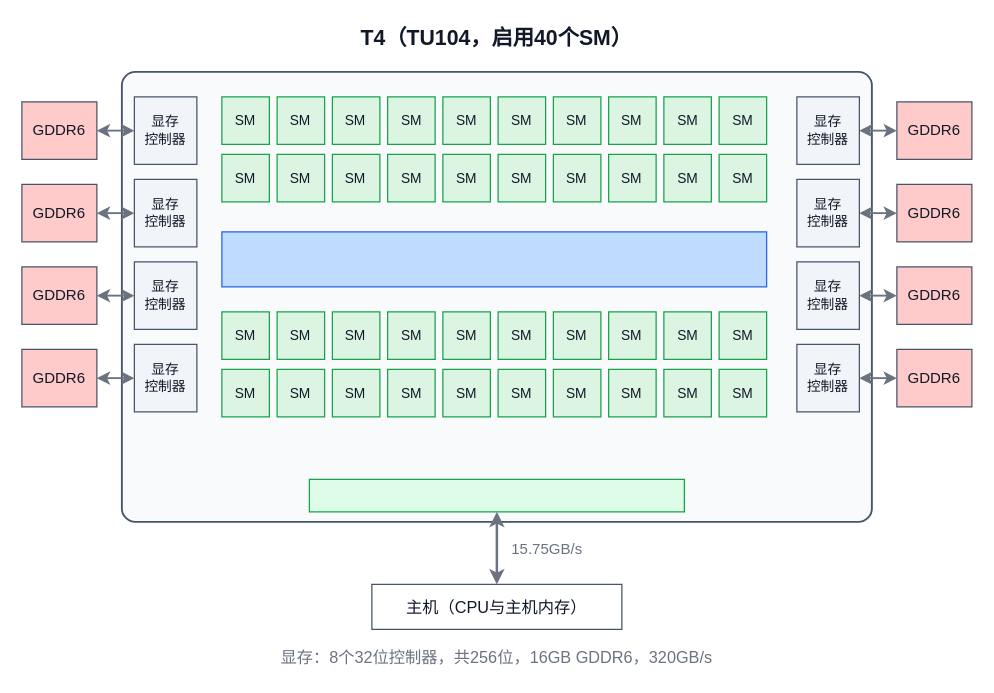
Image size: 994x693. Some labels were removed from this diagram. The shapes that lost their labels are listed below. From the top down, each one's box as (x1, y1, x2, y2) in pixels, then its label:
(221, 231, 767, 287): L2缓存 4MiB，所有SM共享
(308, 478, 684, 512): PCIe 3.0 x16 接口
